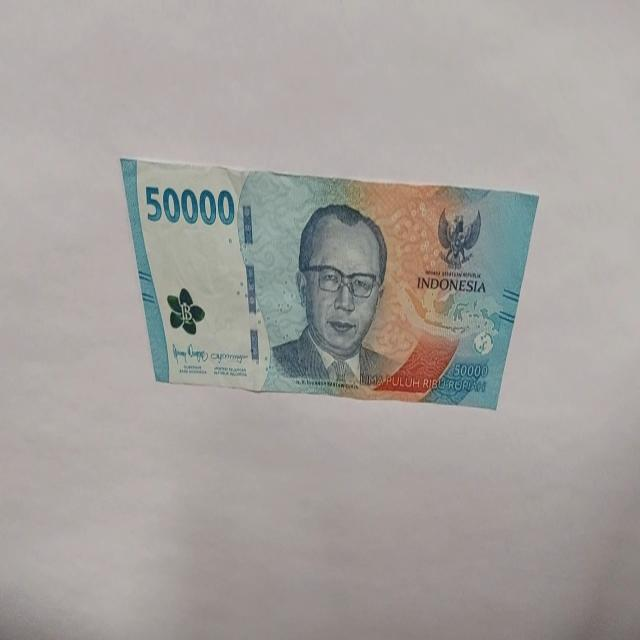lima puluh ribu rupiah: (118, 154, 540, 409), (270, 201, 394, 390), (144, 182, 235, 228)
